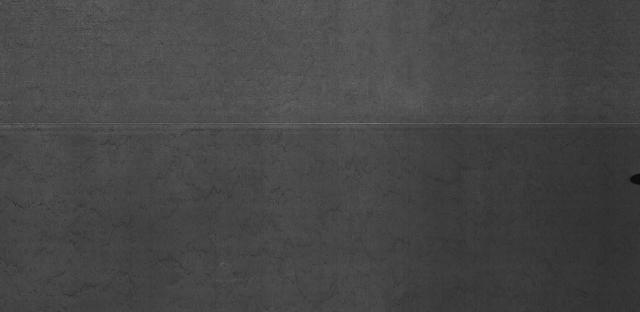punching_hole: (627, 169, 640, 186)
silk_spot: (6, 143, 612, 306)
welding_line: (1, 118, 638, 135)
